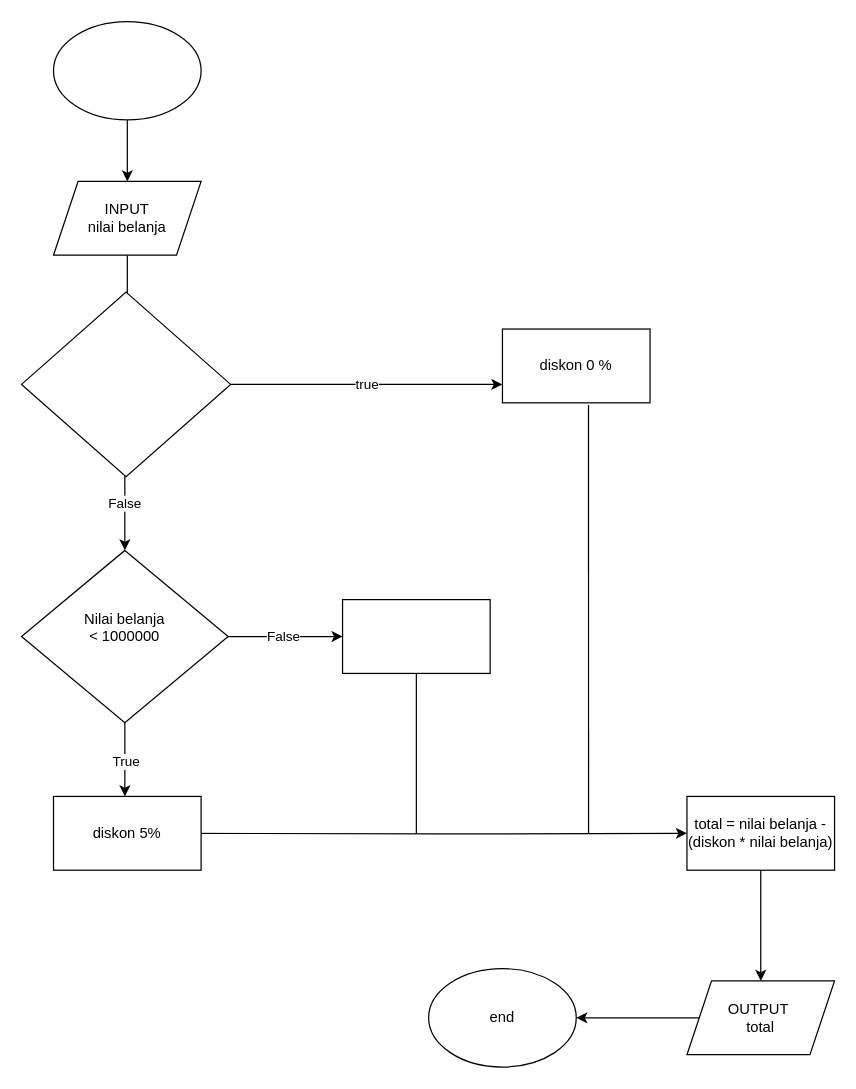
The diagram is 856 pixels wide and 1089 high, and some of its shapes have lost their labels. Here are the shapes that lost their labels. From the top down, the centre of each, then its label:
At (126,70): "start".
At (125,384): "Nilai belanja < Rp 500rb".
At (415,635): "diskon 10%".
